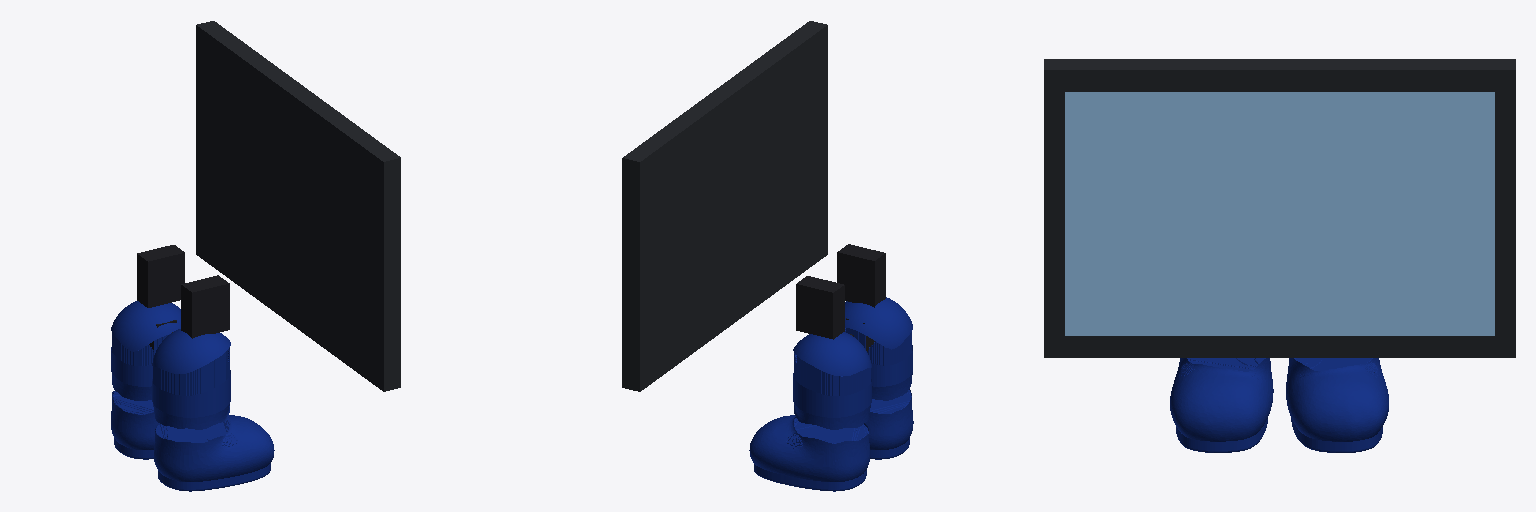
URDF robot description (haetburi):
<?xml version="1.0"?>
<!-- Haetburi biped (v19_sts3032) - generated by tools/build_model.py, do not edit by hand -->
<robot name="haetburi">
  <mujoco>
    <compiler meshdir="." balanceinertia="true" discardvisual="false" strippath="false" fusestatic="false"/>
  </mujoco>
  <material name="display"><color rgba="0.18 0.19 0.21 1"/></material>
  <material name="screen"><color rgba="0.62 0.80 0.95 1"/></material>
  <material name="shell"><color rgba="0.106 0.216 0.541 1"/></material>
  <material name="motor"><color rgba="0.15 0.15 0.17 1"/></material>
  <material name="foot"><color rgba="0.25 0.25 0.28 1"/></material>
  <link name="world"/>
  <joint name="floating_base" type="floating">
    <parent link="world"/><child link="pelvis"/>
    <origin xyz="0 0 0" rpy="0 0 0"/>
  </joint>
  <link name="pelvis">
    <inertial>
      <origin xyz="-0.00487808 -0.000116782 0.0408523" rpy="0 0 0"/>
      <mass value="0.332038"/>
      <inertia ixx="0.000298961" ixy="2.65305e-06" ixz="8.46141e-05" iyy="0.000339035" iyz="8.1401e-07" izz="0.000328191"/>
    </inertial>
    <visual><origin xyz="0 0 0" rpy="0 0 0"/><geometry><mesh filename="meshes/pelvis.stl"/></geometry><material name="shell"/></visual>
    <visual><origin xyz="0.00600244 0.0226798 0.05175" rpy="0 0 0"/><geometry><box size="0.023 0.012 0.0275"/></geometry><material name="motor"/></visual>
    <visual><origin xyz="0.00699756 -0.0229596 0.05175" rpy="0 0 0"/><geometry><box size="0.023 0.012 0.0275"/></geometry><material name="motor"/></visual>
    <collision><origin xyz="0.0069175 -0.000135522 0.0316967" rpy="0 0 0"/><geometry><box size="0.0829374 0.110136 0.0333933"/></geometry></collision>
  </link>
  <link name="torso">
    <inertial>
      <origin xyz="0.0238953 7.63336e-05 0.103132" rpy="0 0 0"/>
      <mass value="1.599"/>
      <inertia ixx="0.0205747" ixy="-4.70239e-05" ixz="0.00355319" iyy="0.0202897" iyz="-5.01842e-05" izz="0.0117163"/>
    </inertial>
    <visual><origin xyz="0 0 0" rpy="0 0 0"/><geometry><mesh filename="meshes/torso.stl"/></geometry><material name="shell"/></visual>
    <visual><origin xyz="0.0778284 0 0.0371177" rpy="0 0 0"/><geometry><box size="0.010948 0.200396 0.13547"/></geometry><material name="display"/></visual>
    <visual><origin xyz="0.0833024 0 0.0371177" rpy="0 0 0"/><geometry><box size="0.0004 0.182784 0.11424"/></geometry><material name="screen"/></visual>
    <collision><origin xyz="-0.0361353 -1.68216e-06 0.0266592" rpy="0 0 0"/><geometry><box size="0.169615 0.115011 0.113262"/></geometry></collision>
    <collision><origin xyz="0.0441252 0.0890865 0.0537203" rpy="0 0 0"/><geometry><sphere radius="0.0644414"/></geometry></collision>
    <collision><origin xyz="0.0444303 -0.0892231 0.0537203" rpy="0 0 0"/><geometry><sphere radius="0.0643794"/></geometry></collision>
    <collision><origin xyz="-0.00553846 0.000283241 0.108755" rpy="0 0 0"/><geometry><sphere radius="0.11053"/></geometry></collision>
    <collision><origin xyz="-0.00965095 -0.00013022 0.159651" rpy="0 0 0"/><geometry><sphere radius="0.127519"/></geometry></collision>
    <collision><origin xyz="-0.0146957 -0.000214924 0.210557" rpy="0 0 0"/><geometry><sphere radius="0.126041"/></geometry></collision>
    <collision><origin xyz="-0.0115287 0.000907909 0.261459" rpy="0 0 0"/><geometry><sphere radius="0.109598"/></geometry></collision>
    <collision><origin xyz="-0.00682188 0.00718636 0.312393" rpy="0 0 0"/><geometry><sphere radius="0.0781179"/></geometry></collision>
    <collision><origin xyz="-0.012502 -0.00237525 0.363282" rpy="0 0 0"/><geometry><sphere radius="0.0453342"/></geometry></collision>
    <collision><origin xyz="0.0778284 0 0.0371177" rpy="0 0 0"/><geometry><box size="0.010948 0.200396 0.13547"/></geometry></collision>
  </link>
  <link name="leg_l">
    <inertial>
      <origin xyz="-0.000654064 0.00173144 -0.0158496" rpy="0 0 0"/>
      <mass value="0.0614915"/>
      <inertia ixx="3.42427e-05" ixy="1.03266e-07" ixz="4.17798e-07" iyy="3.28961e-05" iyz="2.42623e-07" izz="1.37591e-05"/>
    </inertial>
    <visual><origin xyz="0 0 0" rpy="0 0 0"/><geometry><mesh filename="meshes/leg_l.stl"/></geometry><material name="shell"/></visual>
    <collision><origin xyz="-0.000520446 0.0020737 -0.00171609" rpy="0 0 0"/><geometry><box size="0.0428161 0.0392637 0.0492271"/></geometry></collision>
  </link>
  <link name="hip_l">
    <inertial>
      <origin xyz="0 -0.00169586 0.0195876" rpy="0 0 0"/>
      <mass value="0.0359266"/>
      <inertia ixx="2.75364e-06" ixy="0" ixz="0" iyy="1.47051e-06" iyz="2.28102e-08" izz="1.88312e-06"/>
    </inertial>
    <visual><origin xyz="0 -0.002 0.0205" rpy="0 0 0"/><geometry><box size="0.012 0.0275 0.023"/></geometry><material name="motor"/></visual>
  </link>
  <link name="foot_l">
    <inertial>
      <origin xyz="0.000379982 0.00454592 -0.000993857" rpy="0 0 0"/>
      <mass value="0.0859819"/>
      <inertia ixx="1.68751e-05" ixy="-8.22236e-07" ixz="-1.78481e-07" iyy="2.55293e-05" iyz="-7.59144e-07" izz="2.96581e-05"/>
    </inertial>
    <visual><origin xyz="0 0 0" rpy="0 0 0"/><geometry><mesh filename="meshes/foot_l.stl"/></geometry><material name="shell"/></visual>
    <visual><origin xyz="0 0.0055 3.36778e-19" rpy="0 0 0"/><geometry><box size="0.0275 0.023 0.012"/></geometry><material name="motor"/></visual>
    <collision><origin xyz="0 0 0" rpy="0 0 0"/><geometry><mesh filename="meshes/foot_l.stl"/></geometry></collision>
  </link>
  <link name="leg_r">
    <inertial>
      <origin xyz="-0.00107134 -0.00223152 -0.0163733" rpy="0 0 0"/>
      <mass value="0.0619895"/>
      <inertia ixx="3.58034e-05" ixy="-1.04735e-07" ixz="8.99889e-07" iyy="3.44448e-05" iyz="-2.33342e-07" izz="1.40511e-05"/>
    </inertial>
    <visual><origin xyz="0 0 0" rpy="0 0 0"/><geometry><mesh filename="meshes/leg_r.stl"/></geometry><material name="shell"/></visual>
    <collision><origin xyz="-0.00157497 -0.00255615 -0.00169927" rpy="0 0 0"/><geometry><box size="0.0426604 0.039345 0.0509702"/></geometry></collision>
  </link>
  <link name="hip_r">
    <inertial>
      <origin xyz="0 0.00211983 0.0204355" rpy="0 0 0"/>
      <mass value="0.0359266"/>
      <inertia ixx="2.78263e-06" ixy="0" ixz="0" iyy="1.49523e-06" iyz="-3.32649e-08" izz="1.8874e-06"/>
    </inertial>
    <visual><origin xyz="0 0.0025 0.0215" rpy="0 0 0"/><geometry><box size="0.012 0.0275 0.023"/></geometry><material name="motor"/></visual>
  </link>
  <link name="foot_r">
    <inertial>
      <origin xyz="0.000483094 -0.00458102 -0.0010322" rpy="0 0 0"/>
      <mass value="0.0857989"/>
      <inertia ixx="1.67672e-05" ixy="8.78849e-07" ixz="-1.59698e-07" iyy="2.54142e-05" iyz="7.68938e-07" izz="2.95706e-05"/>
    </inertial>
    <visual><origin xyz="0 0 0" rpy="0 0 0"/><geometry><mesh filename="meshes/foot_r.stl"/></geometry><material name="shell"/></visual>
    <visual><origin xyz="0 -0.0055 3.36778e-19" rpy="0 0 0"/><geometry><box size="0.0275 0.023 0.012"/></geometry><material name="motor"/></visual>
    <collision><origin xyz="0 0 0" rpy="0 0 0"/><geometry><mesh filename="meshes/foot_r.stl"/></geometry></collision>
  </link>
  <joint name="waist_fixed" type="fixed">
    <parent link="pelvis"/><child link="torso"/>
    <origin xyz="0 0 0.0483933" rpy="0 0 0"/>
  </joint>
  <joint name="hip_yaw_l" type="revolute">
    <parent link="pelvis"/><child link="hip_l"/>
    <origin xyz="0.000502443 0.0226798 0" rpy="0 0 0"/>
    <axis xyz="0 0 1"/>
    <limit lower="-0.296706" upper="0.296706" effort="0.44" velocity="11.6"/>
    <dynamics damping="0.03142857142857144" friction="0.012571428571428574"/>
  </joint>
  <joint name="hip_pitch_l" type="revolute">
    <parent link="hip_l"/><child link="leg_l"/>
    <origin xyz="0 -0.002 0.015" rpy="0 0 0"/>
    <axis xyz="0 1 0"/>
    <limit lower="-0.558505" upper="0.471239" effort="0.44" velocity="11.6"/>
    <dynamics damping="0.03142857142857144" friction="0.012571428571428574"/>
  </joint>
  <joint name="hip_yaw_r" type="revolute">
    <parent link="pelvis"/><child link="hip_r"/>
    <origin xyz="0.00149756 -0.0229596 0" rpy="0 0 0"/>
    <axis xyz="0 0 1"/>
    <limit lower="-0.296706" upper="0.296706" effort="0.44" velocity="11.6"/>
    <dynamics damping="0.03142857142857144" friction="0.012571428571428574"/>
  </joint>
  <joint name="hip_pitch_r" type="revolute">
    <parent link="hip_r"/><child link="leg_r"/>
    <origin xyz="0 0.0025 0.016" rpy="0 0 0"/>
    <axis xyz="0 1 0"/>
    <limit lower="-0.558505" upper="0.471239" effort="0.44" velocity="11.6"/>
    <dynamics damping="0.03142857142857144" friction="0.012571428571428574"/>
  </joint>
  <joint name="ankle_roll_l" type="revolute">
    <parent link="leg_l"/><child link="foot_l"/>
    <origin xyz="0.0105067 -0.00181269 -0.0518067" rpy="0 0 0"/>
    <axis xyz="1 0 0"/>
    <limit lower="-0.261799" upper="0.261799" effort="0.44" velocity="11.6"/>
    <dynamics damping="0.03142857142857144" friction="0.012571428571428574"/>
  </joint>
  <joint name="ankle_roll_r" type="revolute">
    <parent link="leg_r"/><child link="foot_r"/>
    <origin xyz="0.00922108 0.0013598 -0.0528067" rpy="0 0 0"/>
    <axis xyz="1 0 0"/>
    <limit lower="-0.261799" upper="0.261799" effort="0.44" velocity="11.6"/>
    <dynamics damping="0.03142857142857144" friction="0.012571428571428574"/>
  </joint>
</robot>

--- Render facts (derived) ---
The picture shows the robot from 3 angles, left to right: view 1: azimuth 30°, elevation 25°; view 2: azimuth 150°, elevation 25°; view 3: azimuth 270°, elevation 25°; orthographic projection.
Robot: haetburi — 9 links, 8 joints (6 revolute, 1 fixed, 1 floating); root link world; default pose: every joint at zero.
Visible links, largest first — view 1: torso, foot_r, leg_r, pelvis, leg_l, foot_l; view 2: torso, foot_l, leg_l, pelvis, leg_r, foot_r; view 3: torso, foot_r, foot_l.
Boxes of the visible links, x1,y1,x2,y2 form: torso: (196, 21, 400, 391); foot_r: (154, 415, 274, 491); leg_r: (152, 329, 230, 429); pelvis: (137, 245, 229, 338); leg_l: (111, 301, 180, 400); foot_l: (111, 391, 157, 459); torso: (622, 21, 827, 391); foot_l: (749, 415, 869, 491); leg_l: (793, 332, 871, 429); pelvis: (796, 244, 885, 339); leg_r: (845, 297, 912, 400); foot_r: (865, 389, 913, 459); torso: (1044, 59, 1515, 357); foot_r: (1170, 358, 1273, 452); foot_l: (1286, 358, 1388, 452).
Bounding box of the posed robot: 0.1049 × 0.2004 × 0.2001 m (x, y, z).
4 mesh visuals loaded from 6 distinct referenced files (4 binary STL); not drawn: 2 (reference not matched to a file when rendering).
